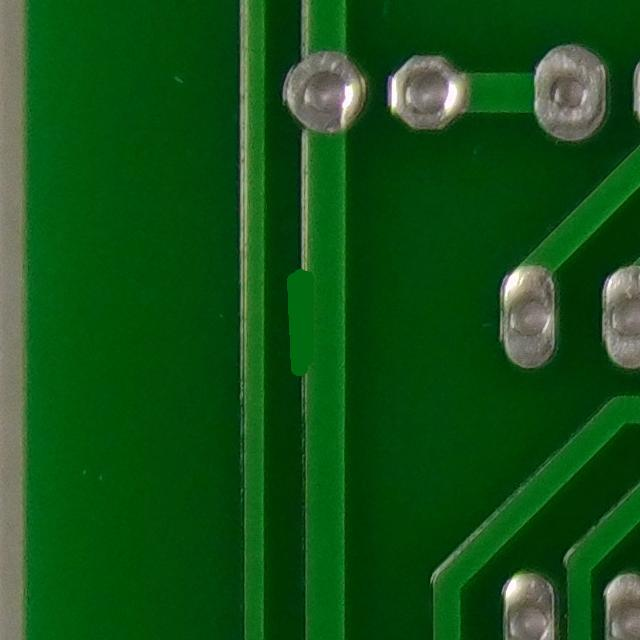spur: (269, 243, 371, 397)
